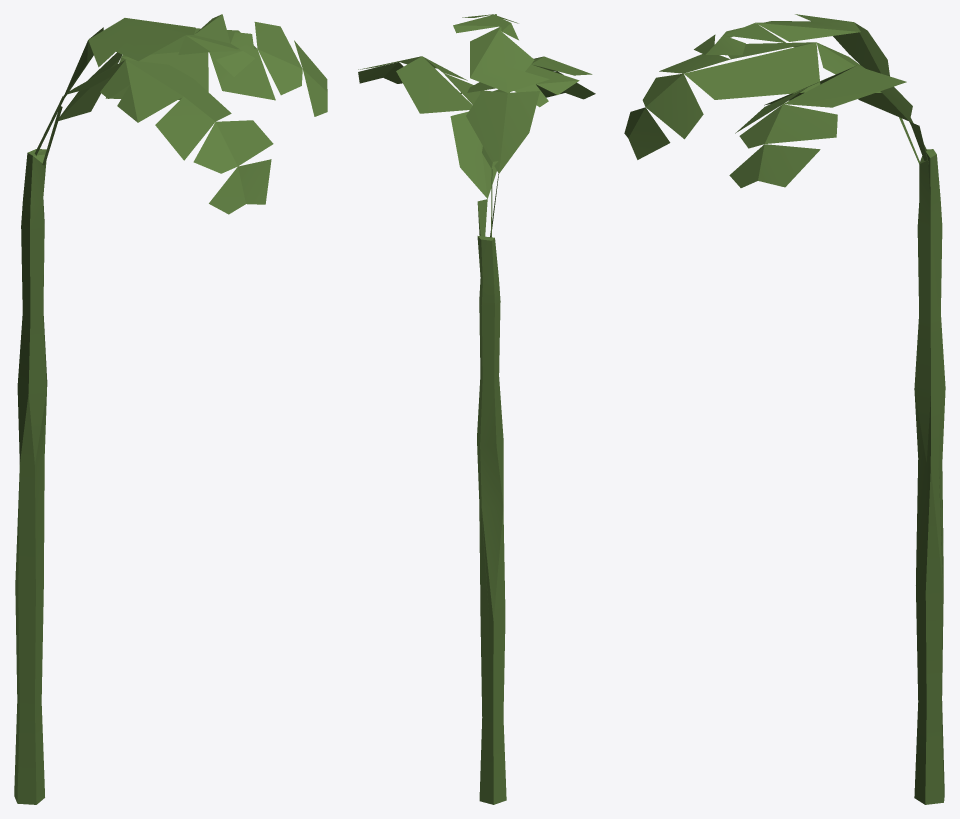
File: Tree_Bamboo_01.fbx
3 renders of one model, left to right at view 1: azimuth 30°, elevation 25°; view 2: azimuth 150°, elevation 25°; view 3: azimuth 270°, elevation 25°, orthographic. The views are drawn at different scales.
Parts seen in each view (by area): view 1: Tree_Bamboo_01; view 2: Tree_Bamboo_01; view 3: Tree_Bamboo_01.
Part boxes in pixels (left/top/right/bottom): Tree_Bamboo_01: left=14, top=14, right=327, bottom=804; Tree_Bamboo_01: left=358, top=14, right=595, bottom=804; Tree_Bamboo_01: left=624, top=14, right=945, bottom=804.
Size of the model in its own units: 70.54 by 228 by 81.35.
